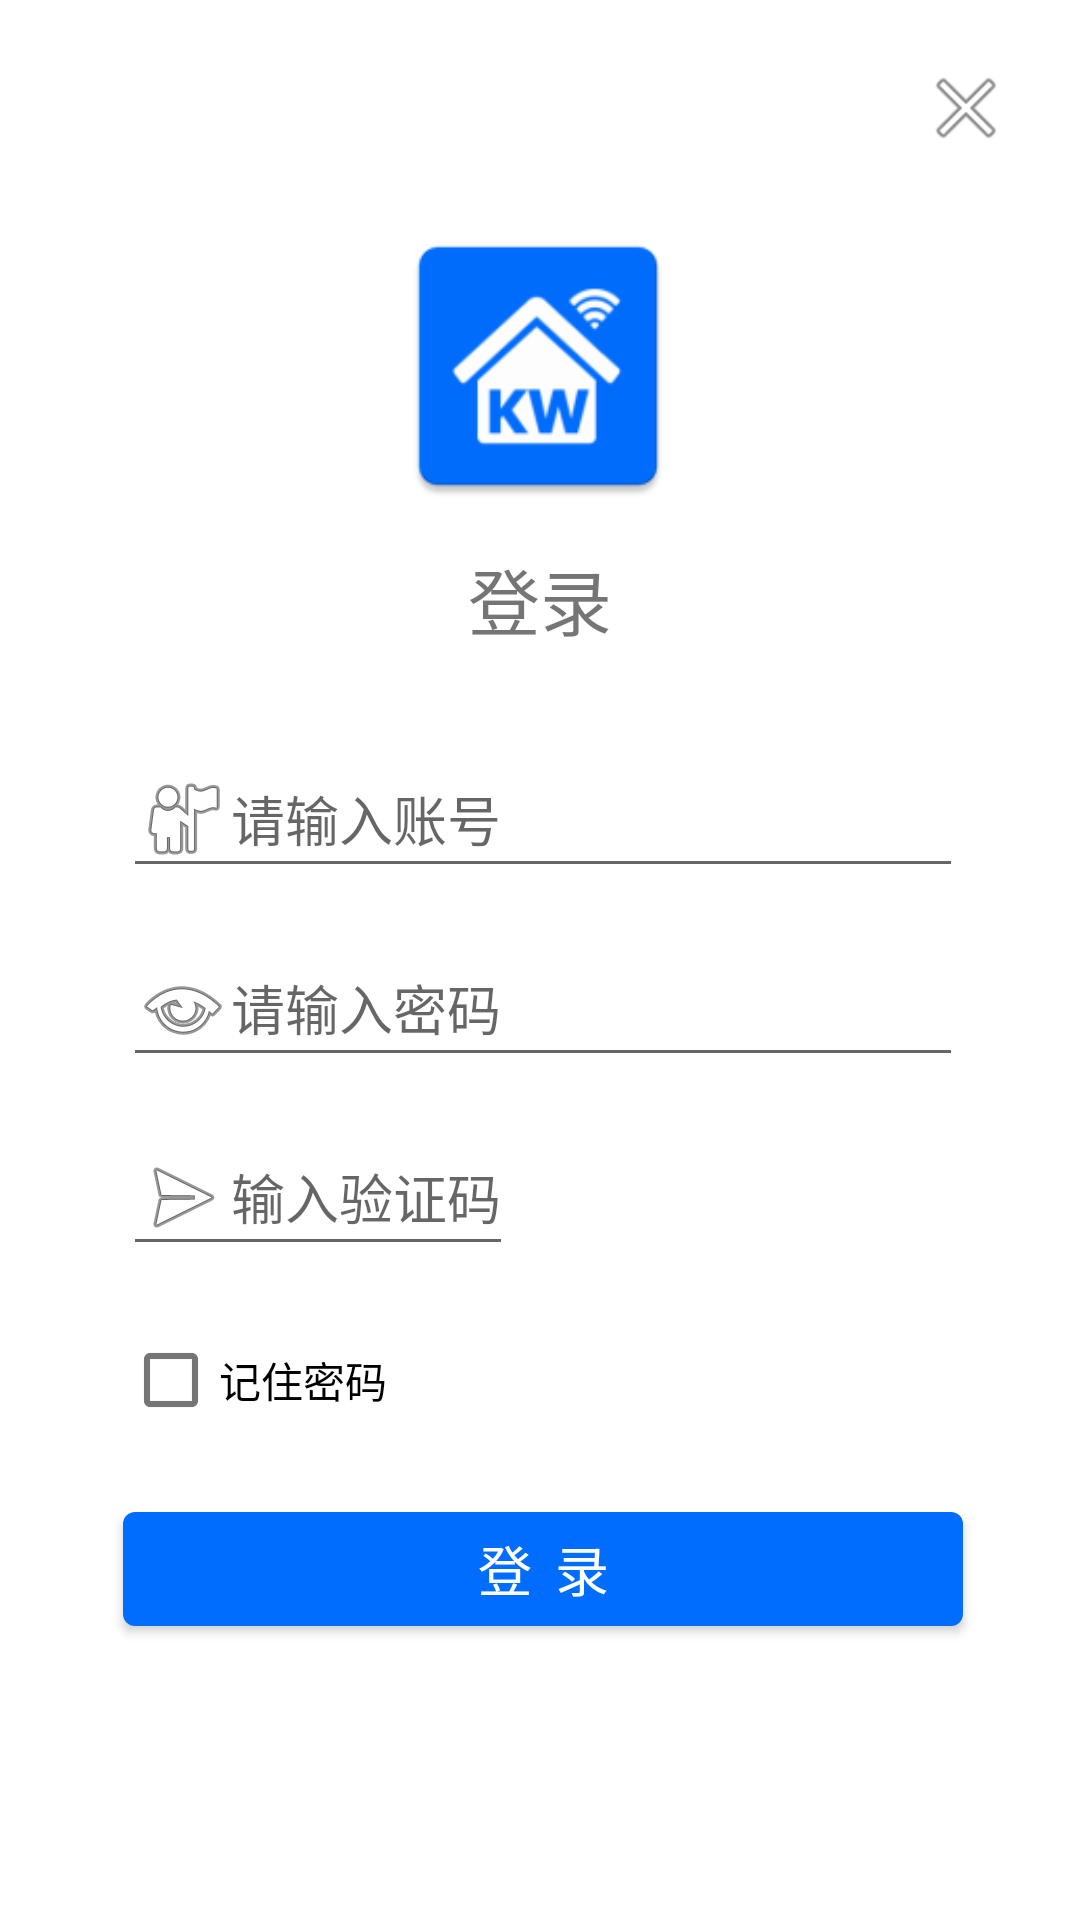

Screen size 1080 × 1920. Icon name, then its box in pixels as (x1, y1, x2, y2):
close clear cancel: (936, 78, 996, 138)
